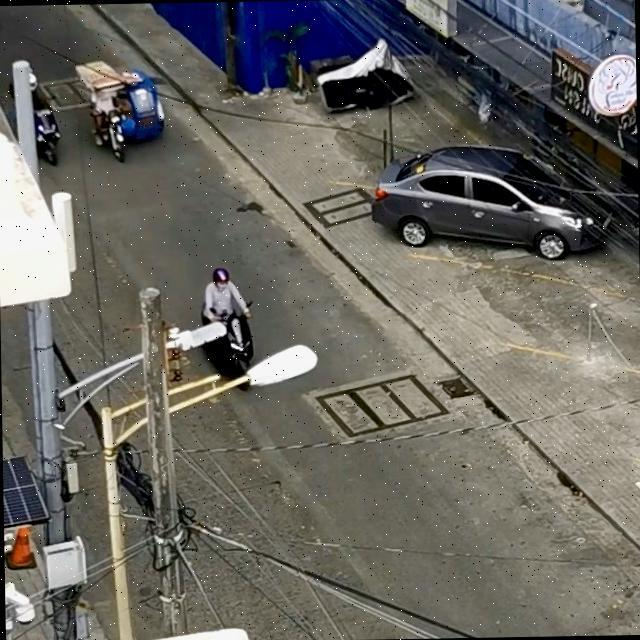Motorcycle: (198, 267, 253, 383), (9, 75, 61, 166)
Tricycle: (78, 61, 166, 160)
